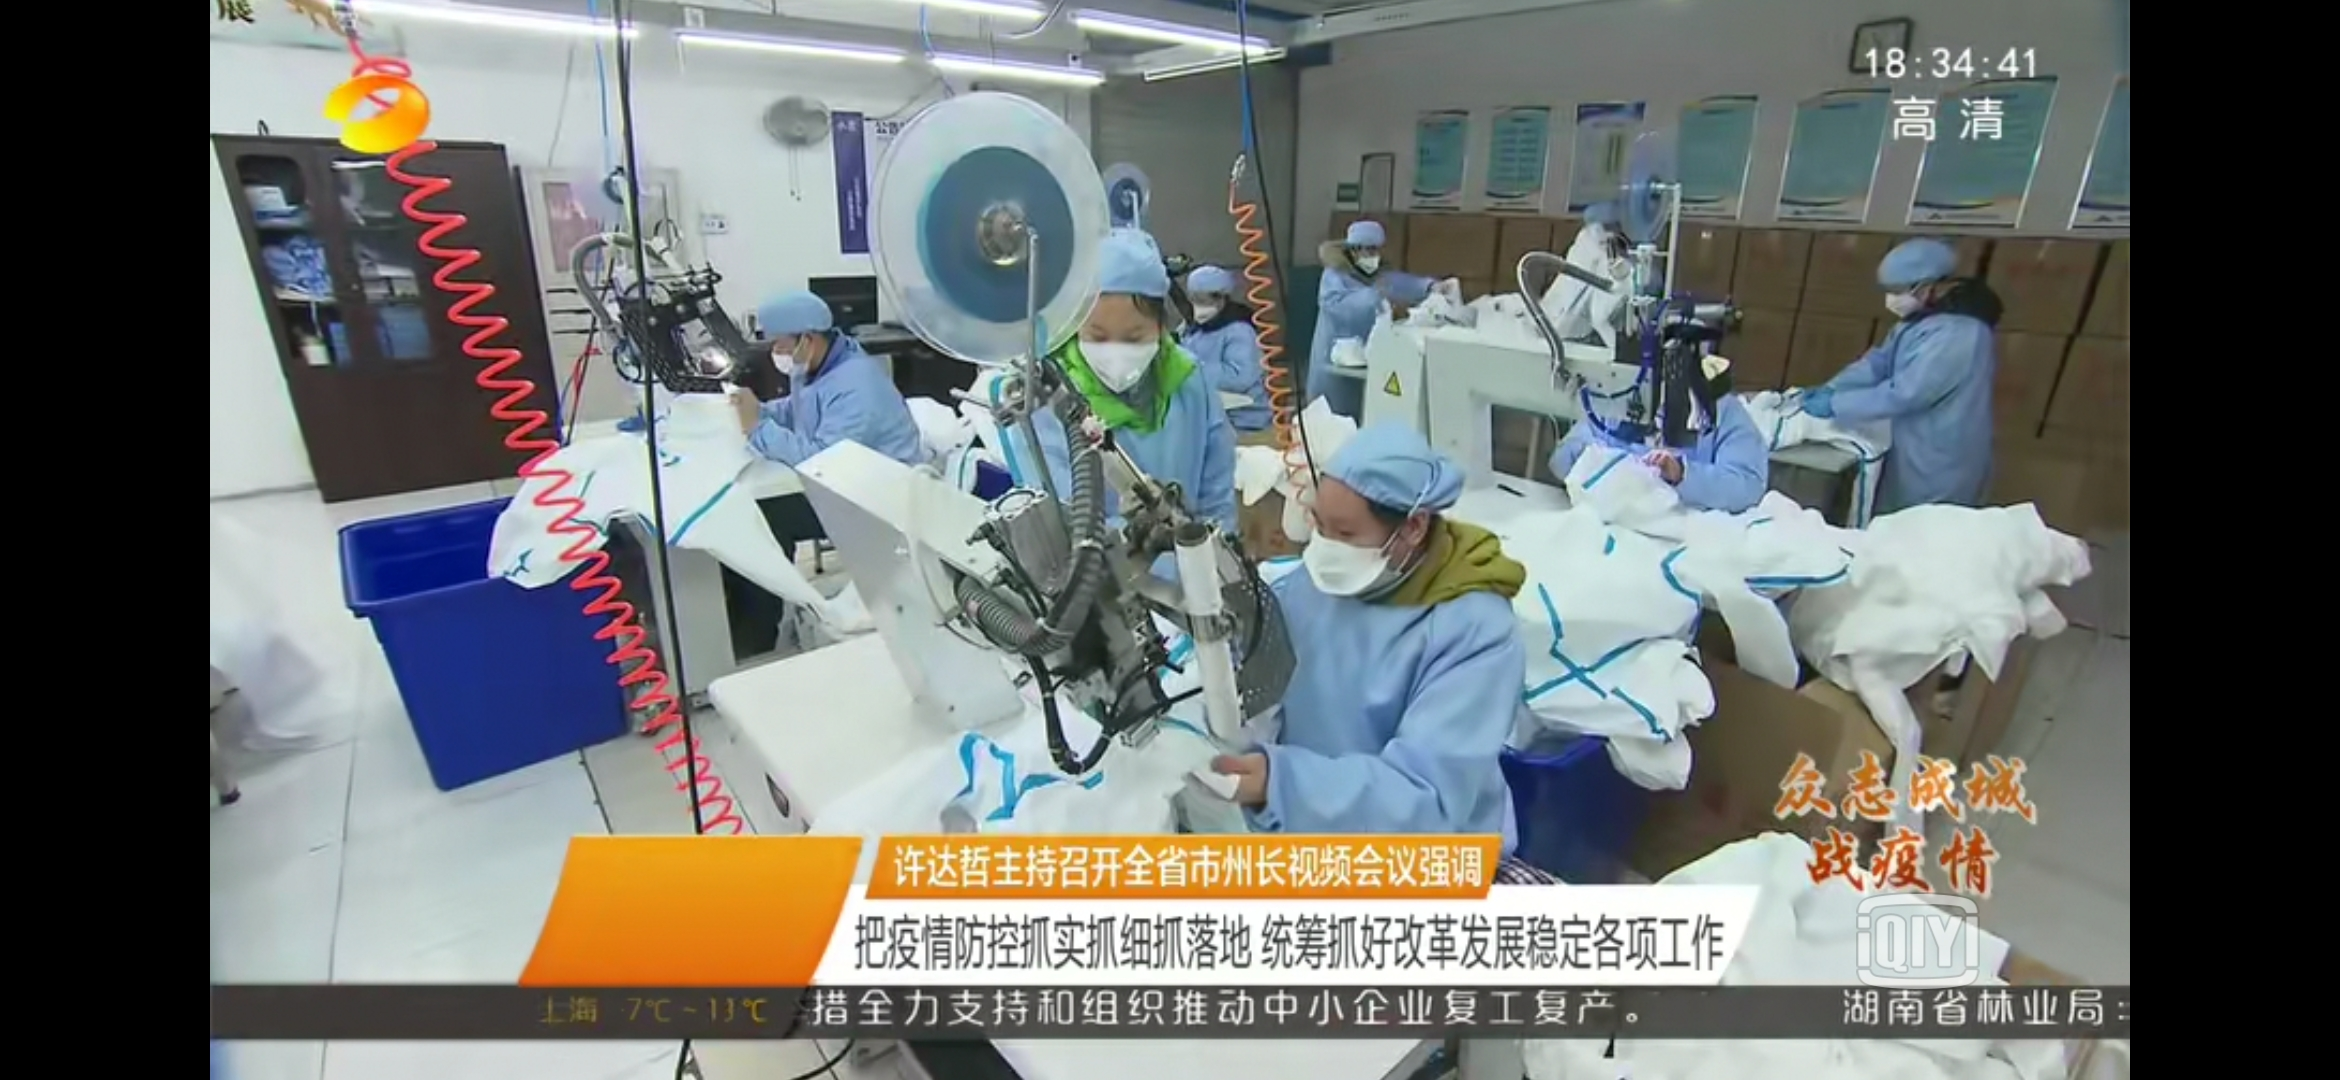correctlyWear: (1304, 492, 1433, 595), (1074, 304, 1169, 392), (1880, 249, 1942, 319), (769, 304, 816, 379), (1186, 280, 1231, 324), (1346, 234, 1388, 273)
